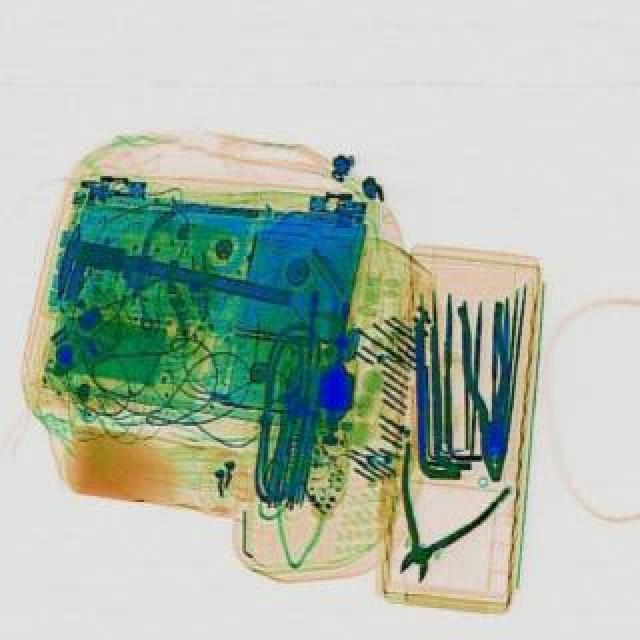wrench: (356, 438, 516, 596), (452, 296, 520, 480)
